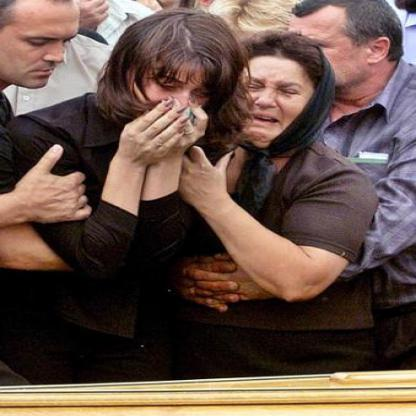face: (222, 40, 322, 147), (123, 36, 224, 137), (1, 1, 80, 96)
